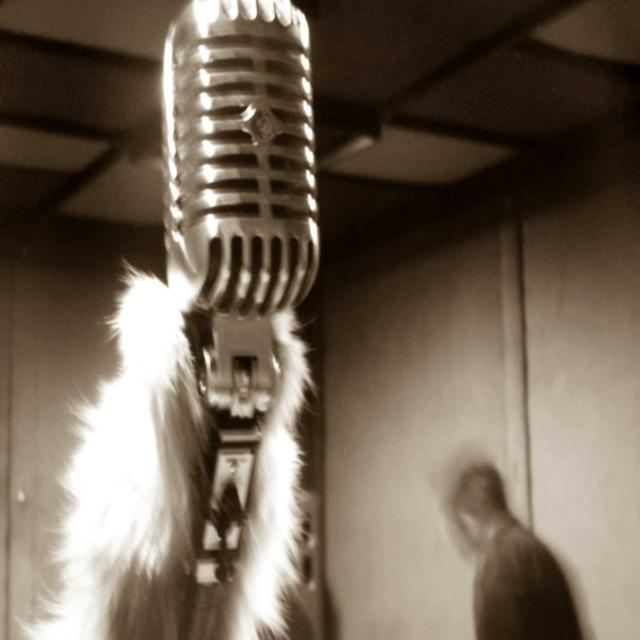microphone: (162, 1, 328, 392)
